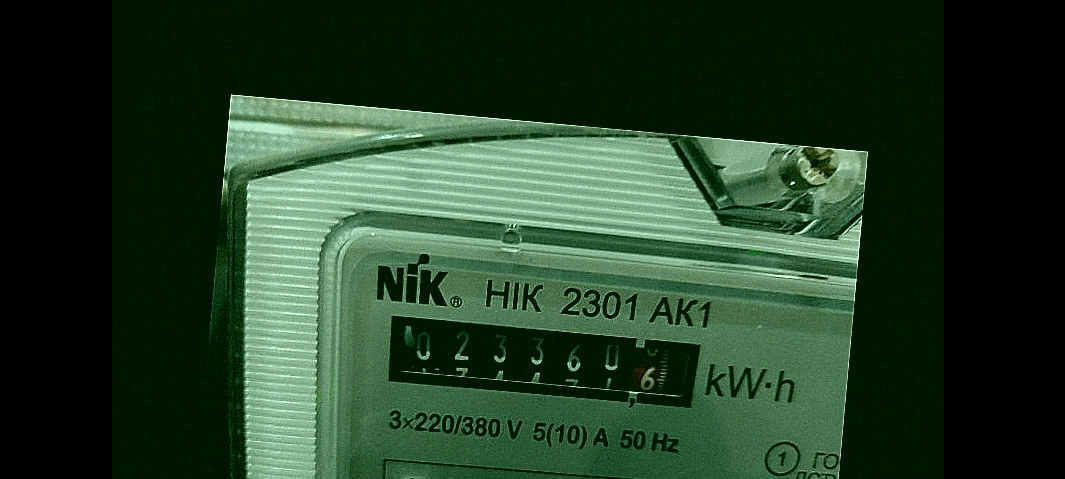0: (412, 327, 436, 362), (602, 340, 622, 372)
2: (450, 327, 476, 363)
3: (488, 331, 511, 364), (527, 333, 548, 366)
6: (562, 339, 585, 373), (636, 361, 659, 392)
screen: (366, 296, 716, 424)
